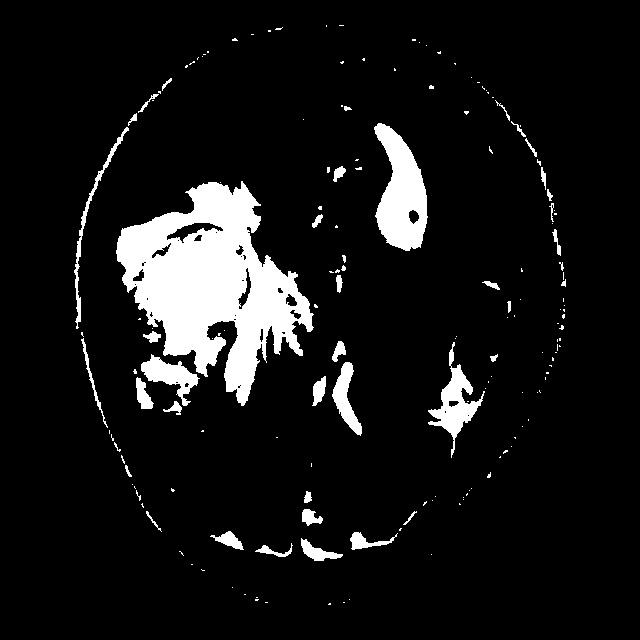Brain-Tumor: (110, 185, 318, 421)
